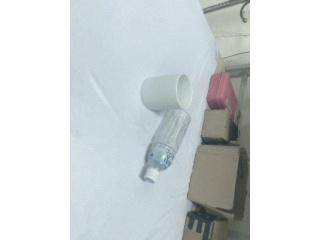bottle: (141, 108, 191, 184)
box: (188, 145, 249, 220), (181, 206, 227, 240), (202, 109, 239, 144)
cup: (140, 73, 193, 111)
